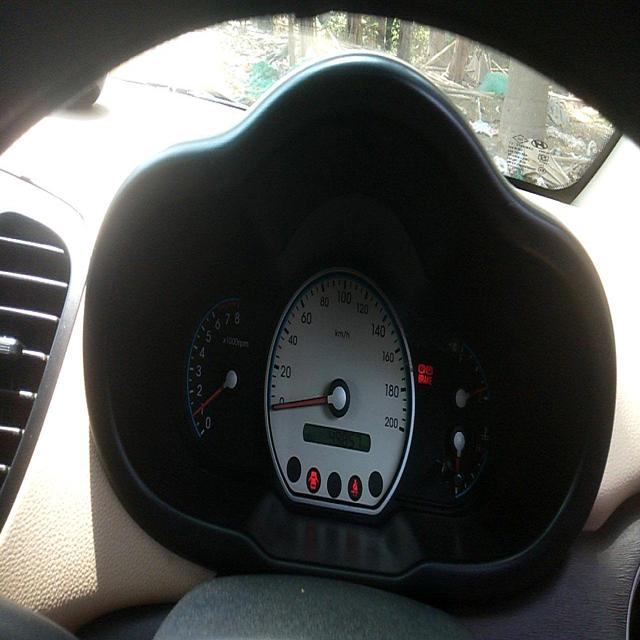odometer: (327, 427, 363, 450)
